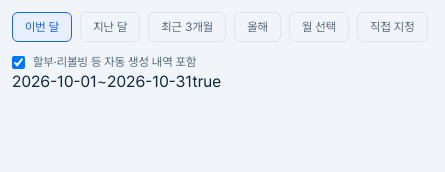
Test case: B. URL 에 쓴다 › B-4. 파생 거래 토글이 주소에 남는다
The width and height of the screenshot is (445, 172).
Expected: the text with test id "derived" reads "true", [192, 72, 221, 91]
Step 1. Click the checkbox → click(18, 62), box [12, 56, 25, 68]
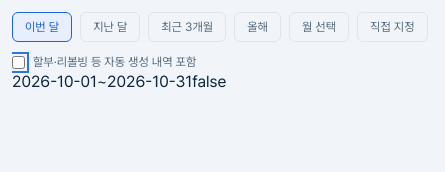
Now the text with test id "derived" reads "false", box [192, 72, 226, 91]
